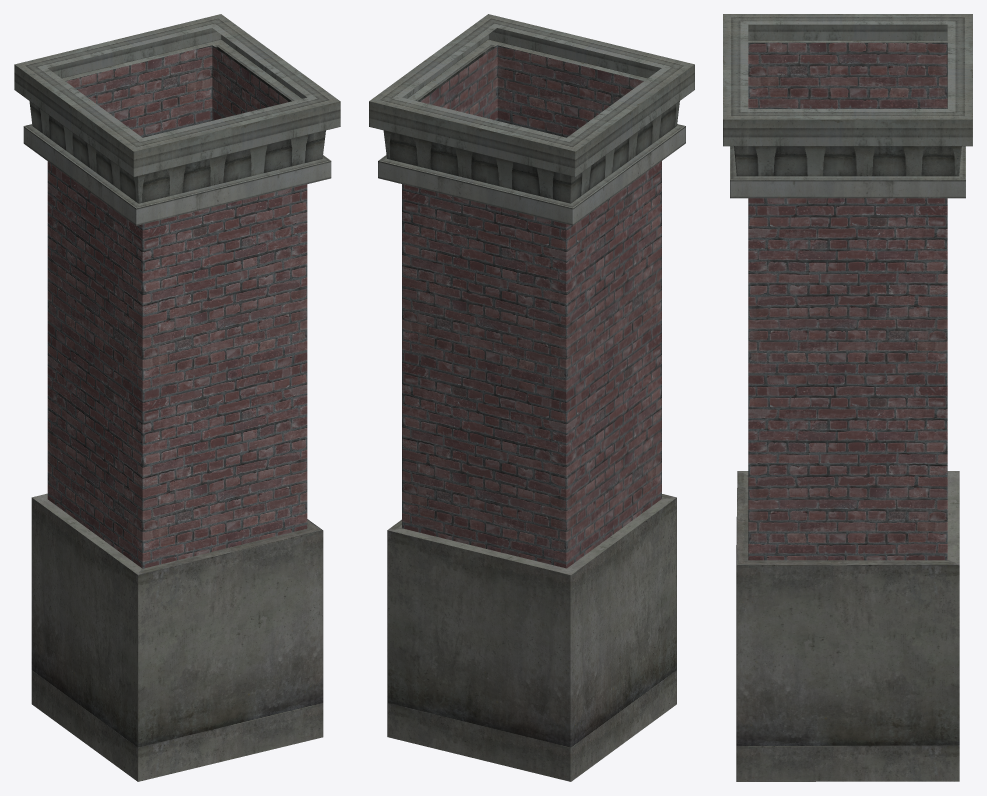
Rendered from Wall_C_Brick_Pilar_1x.FBX.
3 renders of one model, left to right at view 1: azimuth 30°, elevation 25°; view 2: azimuth 150°, elevation 25°; view 3: azimuth 270°, elevation 25°, orthographic. The views are drawn at different scales.
Parts seen in each view (by area): view 1: Wall_C_Brick_Pilar_1x; view 2: Wall_C_Brick_Pilar_1x; view 3: Wall_C_Brick_Pilar_1x.
Boxes of the visible parts, box(x1,y1,x2,y2) form: Wall_C_Brick_Pilar_1x: box(14, 14, 340, 781); Wall_C_Brick_Pilar_1x: box(369, 14, 694, 781); Wall_C_Brick_Pilar_1x: box(723, 14, 972, 781).
Size of the model in its own units: 125 by 370 by 125.
